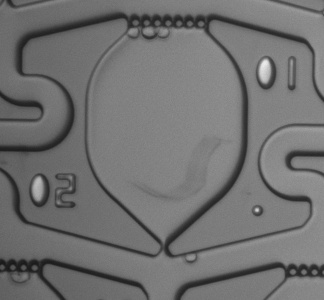AptNum: (247, 50, 309, 95)
Marker: (243, 197, 273, 224)
StNum: (22, 165, 84, 215)
